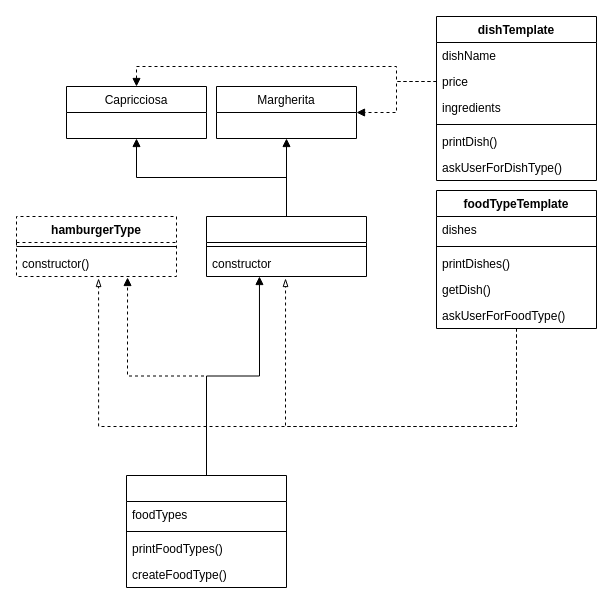
This 613x604 diagram has some shape labels left out. Here are the shapes that lost their labels. From the top down, the box of each, then its label:
(206, 216, 366, 276): pizzaType
(126, 474, 286, 588): FoodFactory
